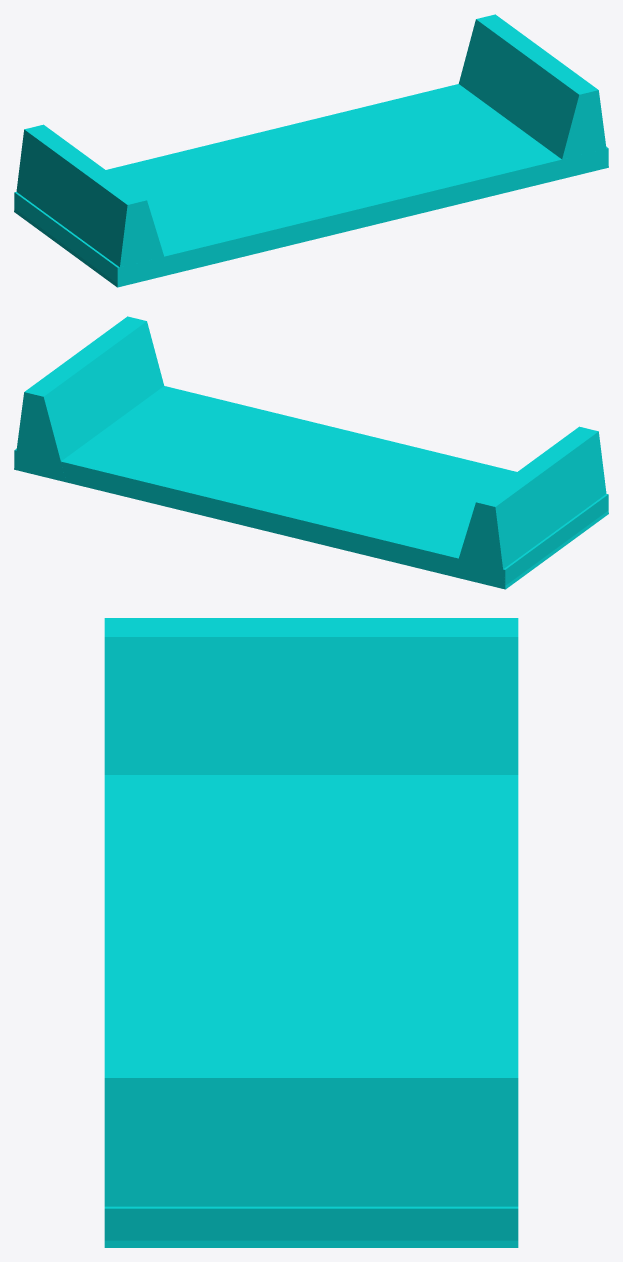
The model's file is SM_Env_Road_Ramp_Structure_02_Collision.fbx.
The picture shows the model from 3 angles, top to bottom: view 1: azimuth 30°, elevation 25°; view 2: azimuth 150°, elevation 25°; view 3: azimuth 270°, elevation 25°; orthographic projection. The views are drawn at different scales.
Parts seen in each view (by area): view 1: SM_Env_Road_Ramp_Structure_02_Collision; view 2: SM_Env_Road_Ramp_Structure_02_Collision; view 3: SM_Env_Road_Ramp_Structure_02_Collision.
Part boxes in pixels (x1=…): SM_Env_Road_Ramp_Structure_02_Collision: x1=14, y1=14, x2=608, y2=287; SM_Env_Road_Ramp_Structure_02_Collision: x1=14, y1=316, x2=608, y2=589; SM_Env_Road_Ramp_Structure_02_Collision: x1=104, y1=618, x2=518, y2=1247.
Size of the model in its own units: 1373 by 214 by 500.
